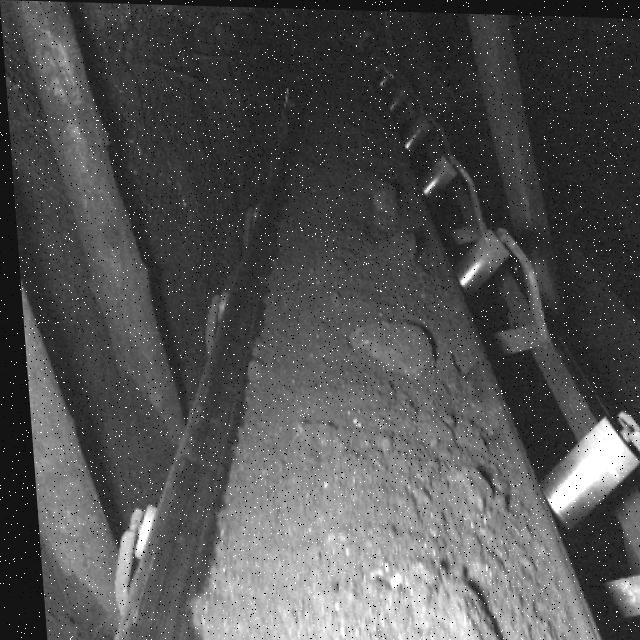large_sized_coal: (340, 317, 434, 379)
